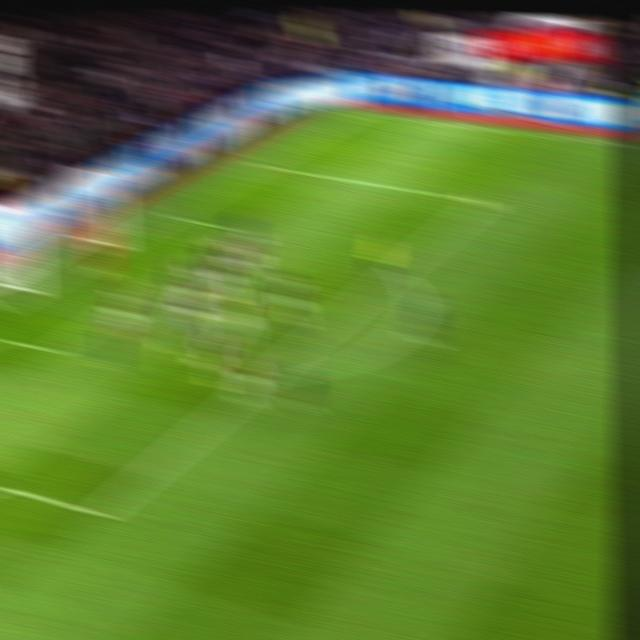bigarea_bottom_inner: (79, 496, 117, 530)
bigarea_top_inner: (470, 192, 498, 213)
bigarea_top_outter: (250, 156, 274, 173)
bottom_arc_area_intersection: (248, 369, 276, 391)
corner: (342, 105, 368, 119)
smallarea_bottom_inner: (35, 338, 66, 364)
smallarea_top_outter: (158, 207, 185, 226)
top_arc_area_intersection: (384, 260, 411, 281)
